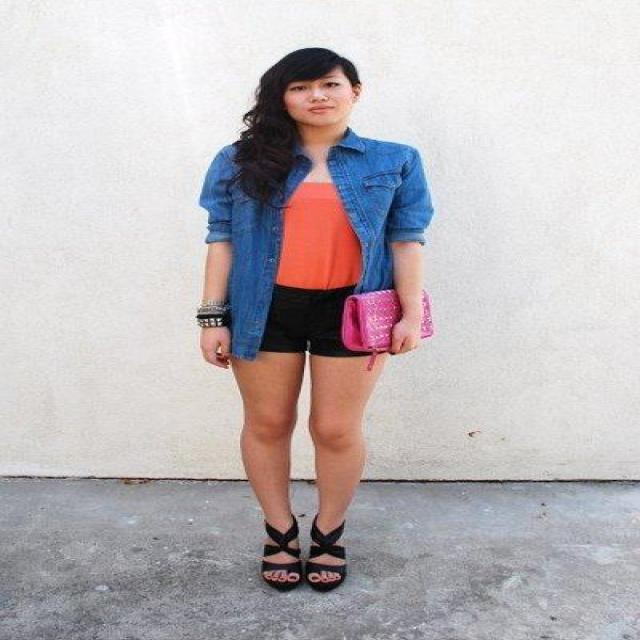bag: (341, 291, 411, 362)
jacket: (200, 129, 432, 360)
shirt: (277, 182, 360, 289)
shoe: (259, 525, 347, 592)
shorts: (259, 284, 363, 356)
